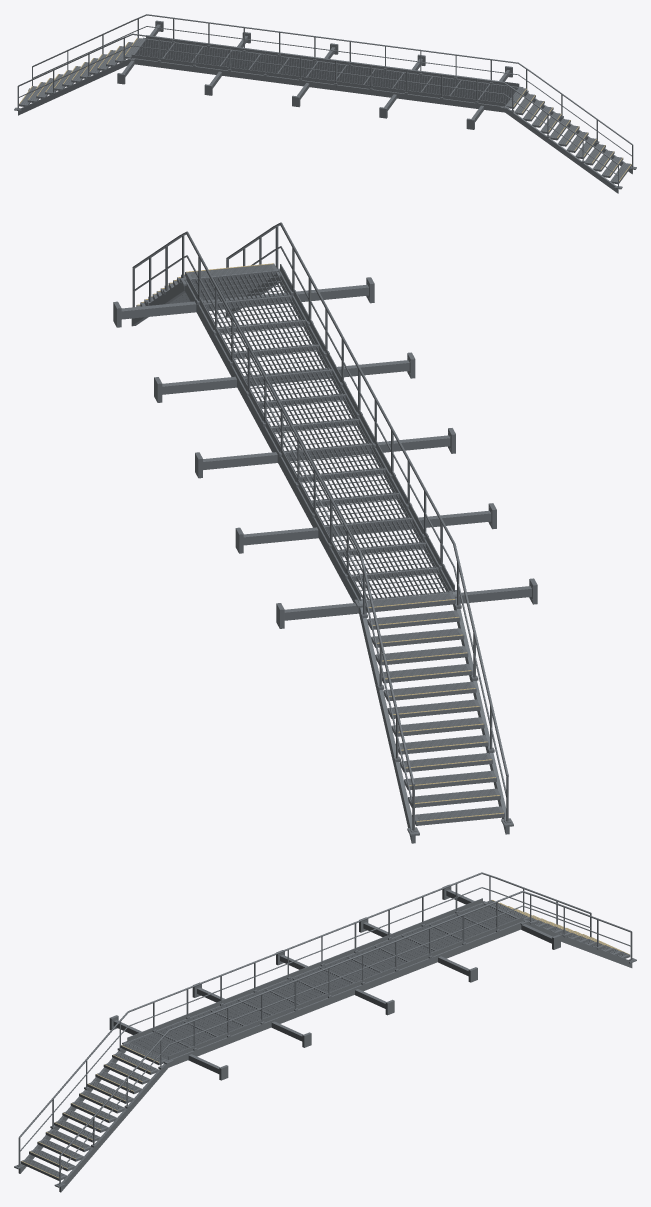
File: BD_T03_UpperWalk_LOD1.fbx
3 views of the same model, one above another, from view 1: azimuth 30°, elevation 25°; view 2: azimuth 150°, elevation 25°; view 3: azimuth 270°, elevation 25° (orthographic). The views are drawn at different scales.
Parts seen in each view (by area): view 1: BD_T03_UpperWalk_LOD1; view 2: BD_T03_UpperWalk_LOD1; view 3: BD_T03_UpperWalk_LOD1.
Boxes of the visible parts, x1,y1,x2,y2 form: BD_T03_UpperWalk_LOD1: [14, 14, 636, 193]; BD_T03_UpperWalk_LOD1: [113, 222, 537, 843]; BD_T03_UpperWalk_LOD1: [14, 872, 636, 1192].
Size of the model in its own units: 1547 by 350 by 1647.
